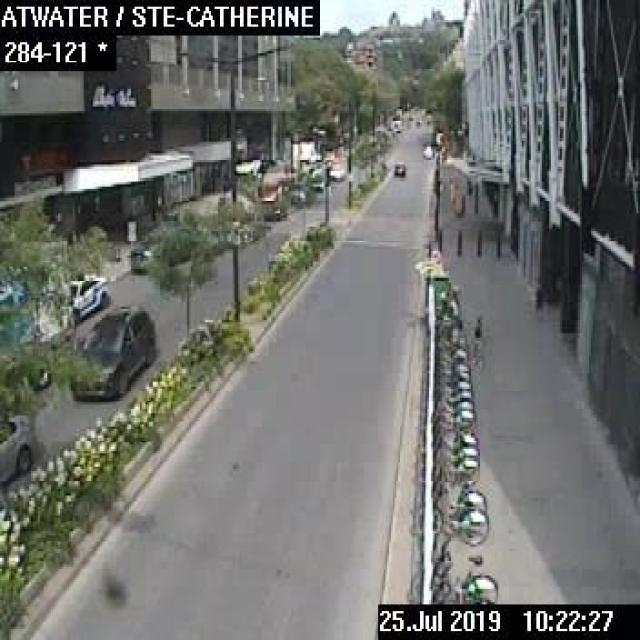pedestrian: (471, 316, 484, 360)
vehicle: (69, 303, 153, 398), (49, 270, 109, 322), (0, 413, 33, 482), (128, 245, 146, 271), (392, 161, 403, 175)
